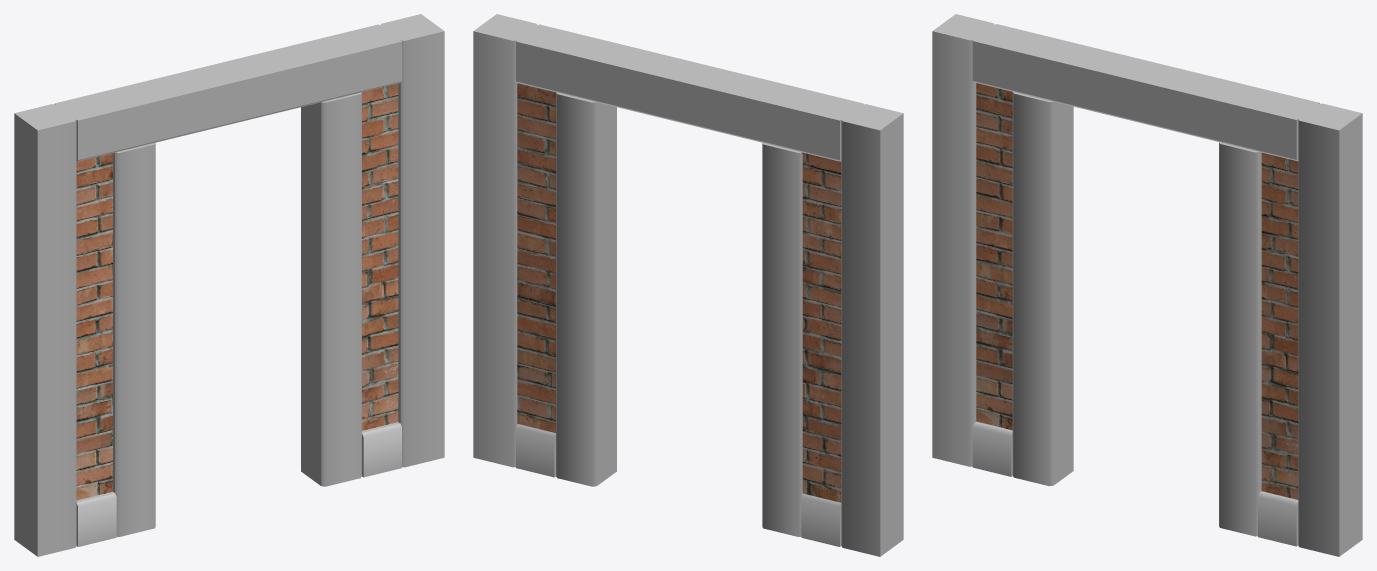
Rendered from House Half Brick Door.fbx.
The picture shows the model from 3 angles, left to right: view 1: azimuth 30°, elevation 25°; view 2: azimuth 150°, elevation 25°; view 3: azimuth 330°, elevation 25°; orthographic projection.
Visible parts, largest first — view 1: House Half Timber Door; view 2: House Half Timber Door; view 3: House Half Timber Door.
Boxes of the visible parts, box(x1,y1,x2,y2) form: House Half Timber Door: box(14, 14, 444, 556); House Half Timber Door: box(473, 14, 903, 556); House Half Timber Door: box(932, 14, 1362, 556).
Bounding box in the file's own units: 250 × 250 × 25.
